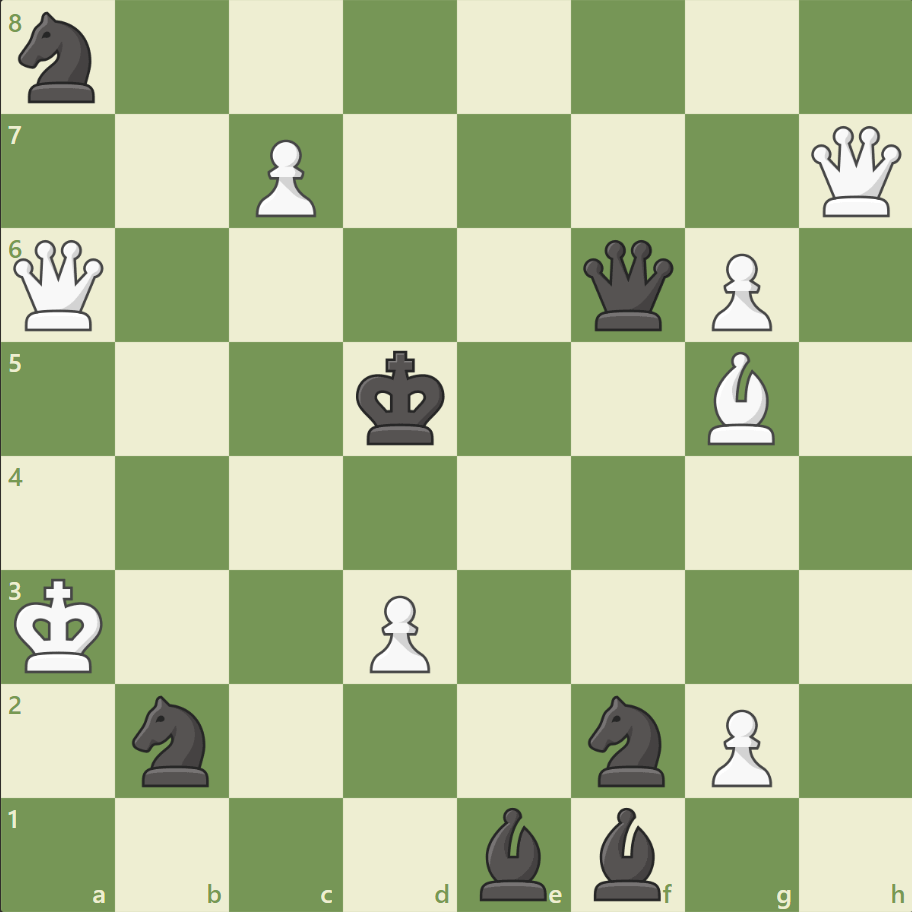B: (698, 347, 782, 449)
K: (11, 571, 111, 679)
P: (247, 132, 322, 223), (701, 246, 776, 337), (701, 700, 776, 791), (361, 586, 435, 677)
Q: (805, 122, 904, 222), (10, 236, 109, 335)
b: (471, 801, 555, 904), (585, 801, 669, 904)
k: (351, 344, 451, 452)
n: (124, 688, 222, 791), (11, 7, 108, 110), (579, 688, 676, 791)
q: (578, 236, 677, 335)
